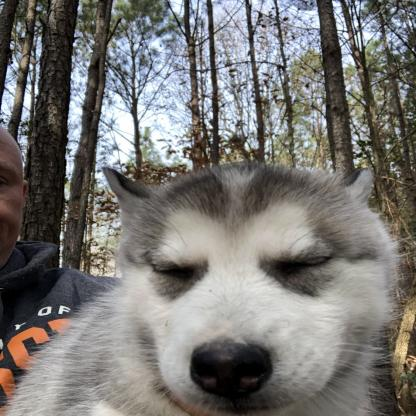husky: (18, 164, 398, 416)
